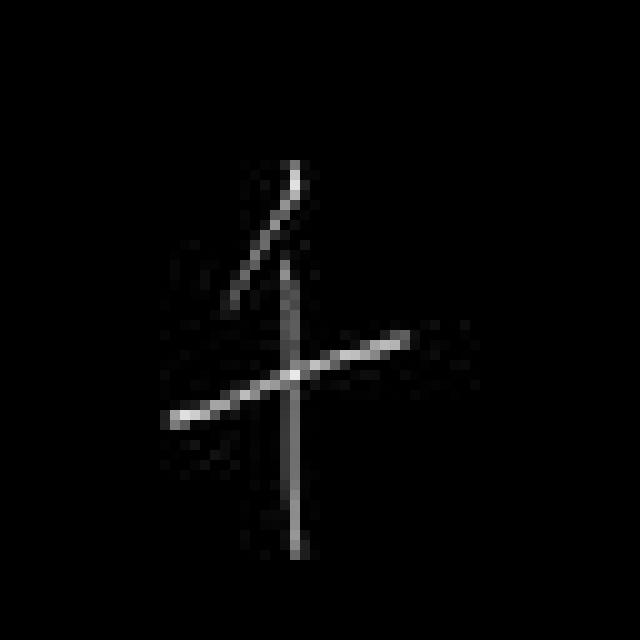1000 -a thousand-: (159, 155, 421, 563)
